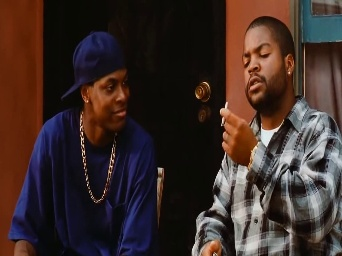smoke: (220, 101, 228, 127)
